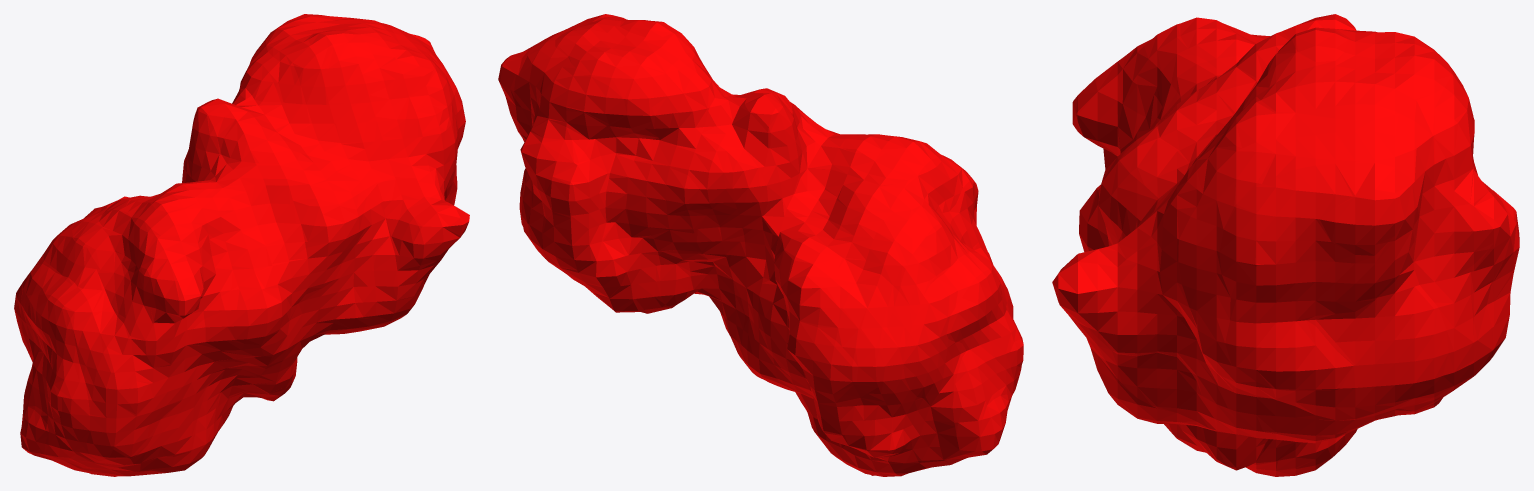
Rendered from bioB_coarse.dae.
3 renders of one model, left to right at view 1: azimuth 30°, elevation 25°; view 2: azimuth 150°, elevation 25°; view 3: azimuth 270°, elevation 25°, orthographic. The views are drawn at different scales.
Visible parts, largest first — view 1: bioB; view 2: bioB; view 3: bioB.
Part boxes in pixels (x1=…): bioB: x1=14, y1=14, x2=469, y2=476; bioB: x1=498, y1=14, x2=1023, y2=476; bioB: x1=1052, y1=14, x2=1519, y2=476.
Size of the model in its own units: 91.06 by 75.37 by 54.5.
